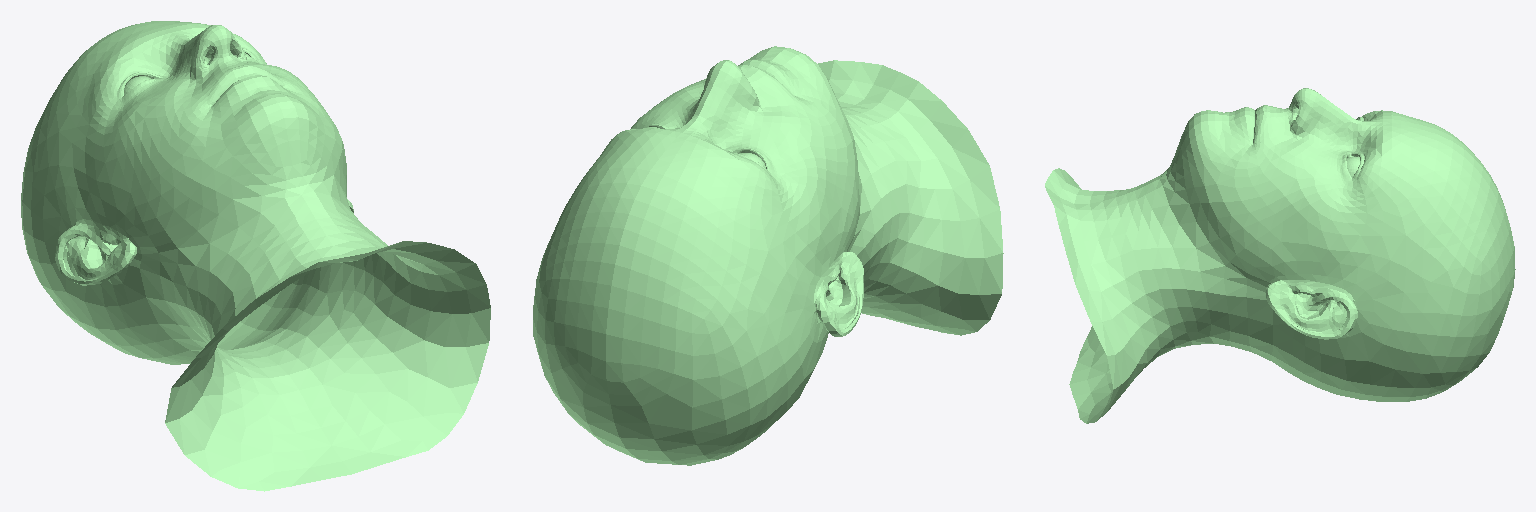
robot.urdf — head_model:
<?xml version="1.0" ?>
<robot name="head_model">
  <link name="headbase">
    <inertial>
      <origin rpy="0 0 0" xyz="0 0 0"/>
      <mass value="1.0"/>
      <inertia ixx="1.821E-05" ixy="-4.1084E-09" ixz="-1.448E-07" iyy="1.062E-05" iyz="-1.5136E-09" izz="1.0557E-05"/>
    </inertial>
    <visual>
      <origin rpy="0 0 0" xyz="0 0 0"/>
      <geometry>
        <mesh filename="base.obj"/>
      </geometry>
      <material name="">
        <color rgba="0.75294 1 0.75294 1"/>
      </material>
    </visual>
    <!-- <collision>
      <origin rpy="0 0 0" xyz="0 0 0"/>
      <geometry>
        <mesh filename="base.obj"/>
      </geometry>
    </collision> -->
  </link>
</robot>

--- Facts derived from the render (not from the file) ---
The picture shows the robot from 3 angles, left to right: view 1: azimuth 30°, elevation 25°; view 2: azimuth 150°, elevation 25°; view 3: azimuth 270°, elevation 25°; orthographic projection.
Robot: head_model — 1 links, 0 joints (none); root link headbase; default pose: all joints at 0.
Links seen in each view (by area): view 1: headbase; view 2: headbase; view 3: headbase.
Boxes of the visible links, left/top/right/bottom form: headbase: left=21, top=21, right=490, bottom=491; headbase: left=533, top=46, right=1003, bottom=465; headbase: left=1045, top=88, right=1515, bottom=423.
Size in the robot's own frame: 0.2176 by 0.3194 by 0.2283 metres.
1 mesh visuals loaded from 1 distinct referenced files (1 OBJ).